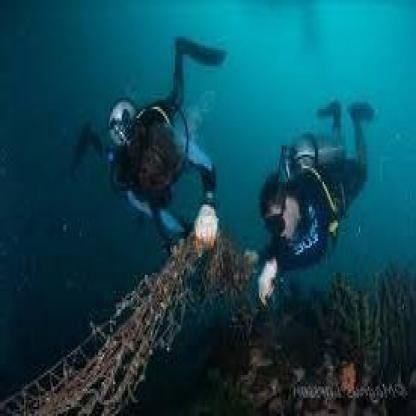net: (1, 248, 194, 416)
